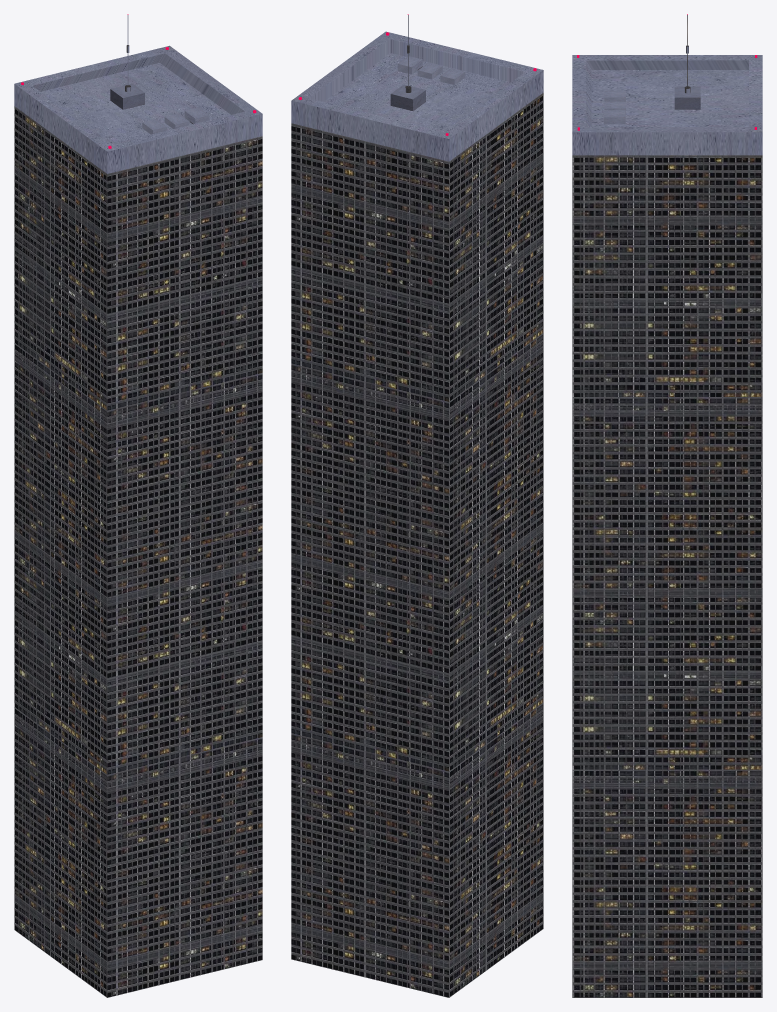
The model's file is new-massive-skyscraper.001.glb.
3 renders of one model, left to right at view 1: azimuth 30°, elevation 25°; view 2: azimuth 150°, elevation 25°; view 3: azimuth 270°, elevation 25°, orthographic. The views are drawn at different scales.
Visible parts, largest first — view 1: new-massive-skyscraper.001; view 2: new-massive-skyscraper.001; view 3: new-massive-skyscraper.001.
Part boxes in pixels (left/top/right/bottom): new-massive-skyscraper.001: left=14, top=14, right=262, bottom=997; new-massive-skyscraper.001: left=291, top=14, right=543, bottom=997; new-massive-skyscraper.001: left=572, top=14, right=762, bottom=997.
Size of the model in its own units: 83.87 by 476 by 86.92.
3 materials, 2 textured.
